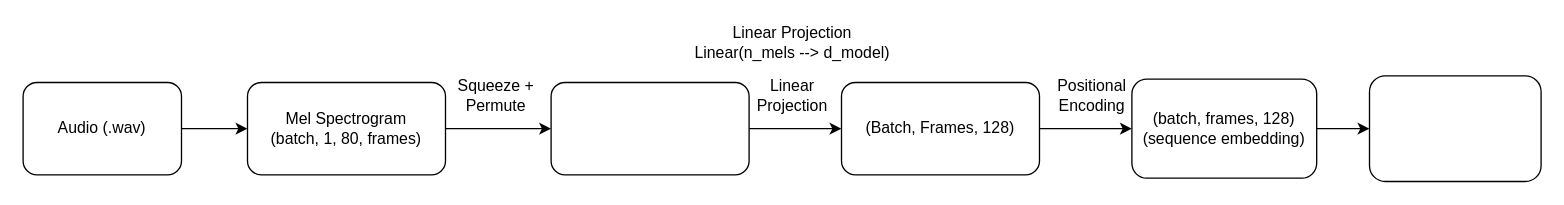
This 1564x205 diagram has some shape labels left out. The centre of each missing label's shape, as x and y in pixels:
(Batch, Frames, 80): point 649,128
Transformer Ecoder: point 1454,128
